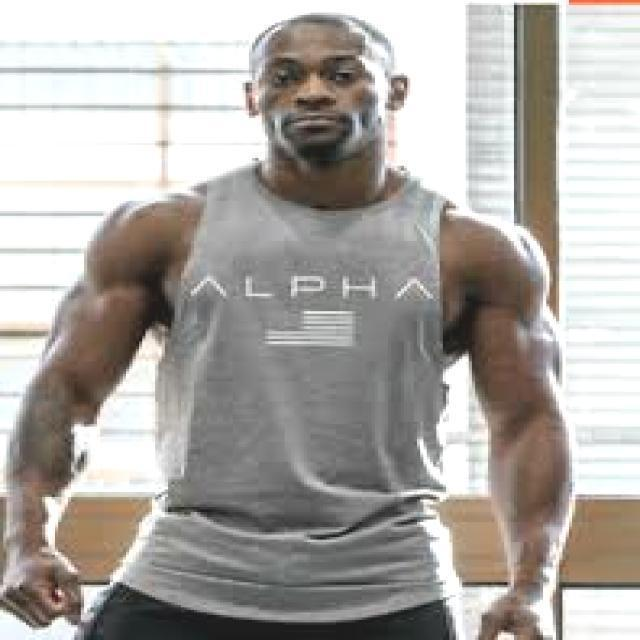no_vest: (115, 157, 462, 626)
